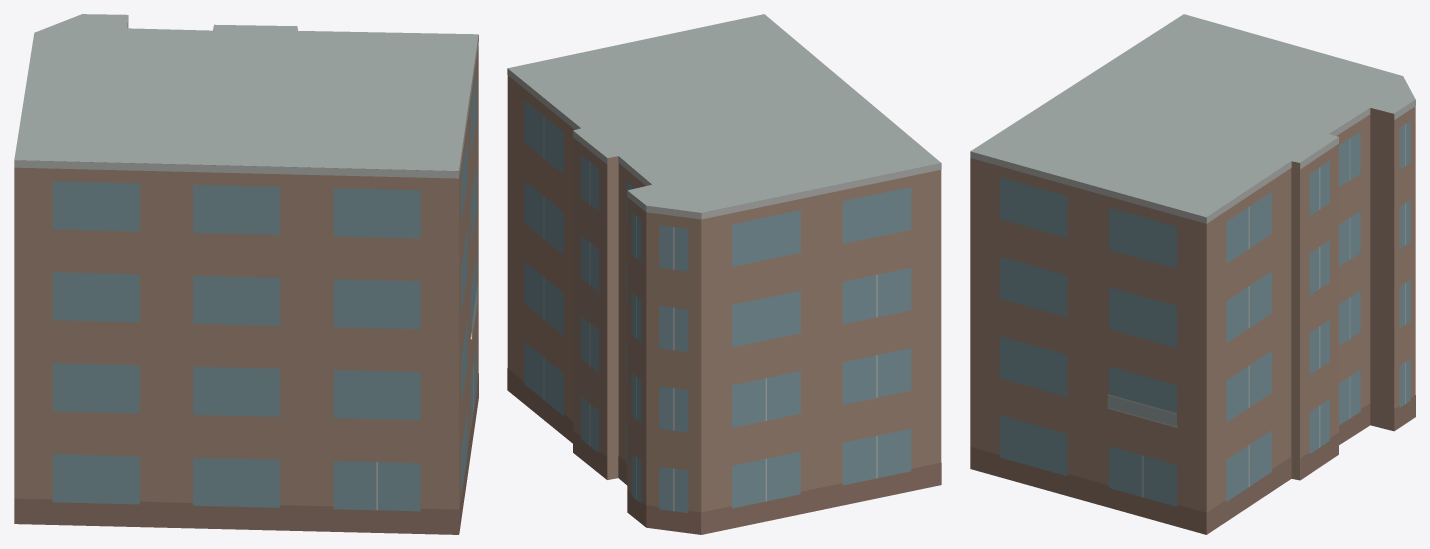
The model's file is survey-upis-32702536.glb.
3 renders of one model, left to right at view 1: azimuth 30°, elevation 25°; view 2: azimuth 150°, elevation 25°; view 3: azimuth 270°, elevation 25°, orthographic. The views are drawn at different scales.
Parts seen in each view (by area): view 1: survey-upis-32702536.tmp; view 2: survey-upis-32702536.tmp; view 3: survey-upis-32702536.tmp.
Part boxes in pixels (x1,y1,x2,y2): survey-upis-32702536.tmp: [14, 14, 478, 534]; survey-upis-32702536.tmp: [507, 14, 941, 534]; survey-upis-32702536.tmp: [970, 14, 1415, 534].
Size of the model in its own units: 16.28 by 11.85 by 15.08.
